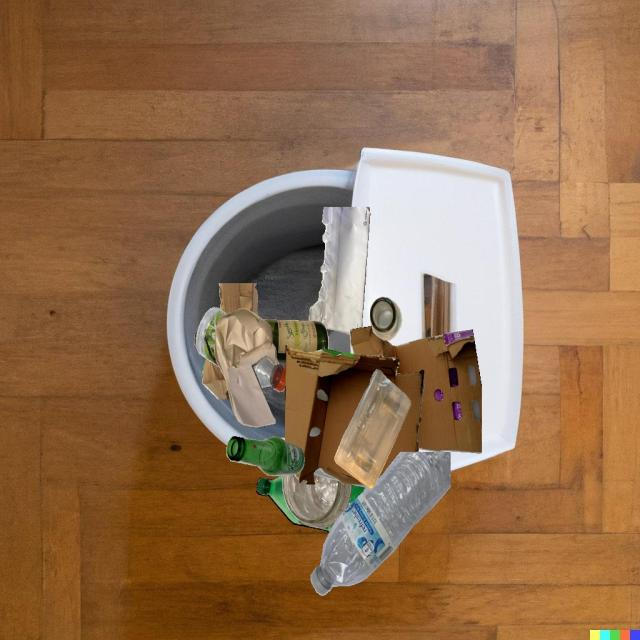biowaste: (281, 437, 285, 440)
cardboard: (285, 345, 424, 485), (350, 326, 482, 453), (219, 283, 258, 316), (203, 358, 230, 399)
glass: (283, 474, 352, 527), (226, 436, 305, 476), (264, 319, 328, 363), (370, 297, 402, 340)
paper: (309, 207, 370, 335), (215, 308, 276, 427)
plastic: (311, 452, 450, 595), (335, 369, 411, 489), (256, 475, 334, 532), (196, 307, 227, 368), (253, 357, 286, 392), (313, 469, 339, 481)
